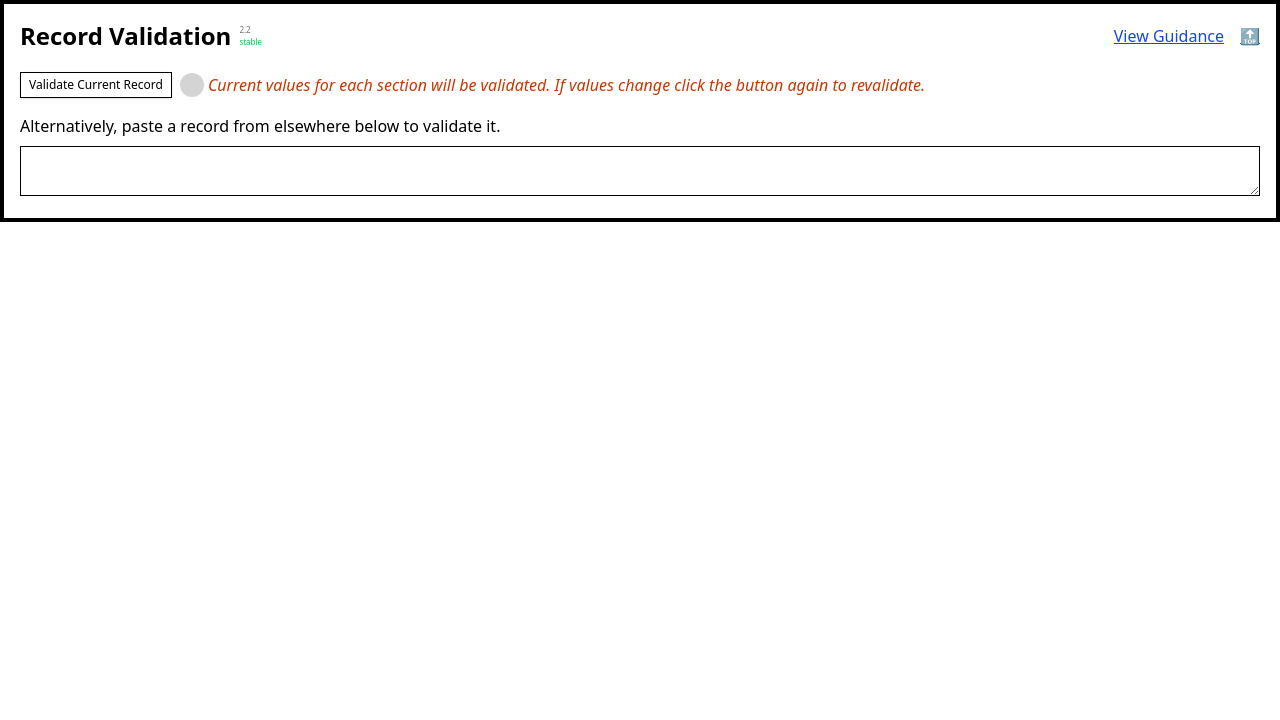
Test: RecordValidation › renders correctly with an invalid current record
This screenshot has width=1280, height=720.
click validation-use-current button
Step 1. Click the button "Validate Current Record" → click(96, 85), box [20,72,172,98]
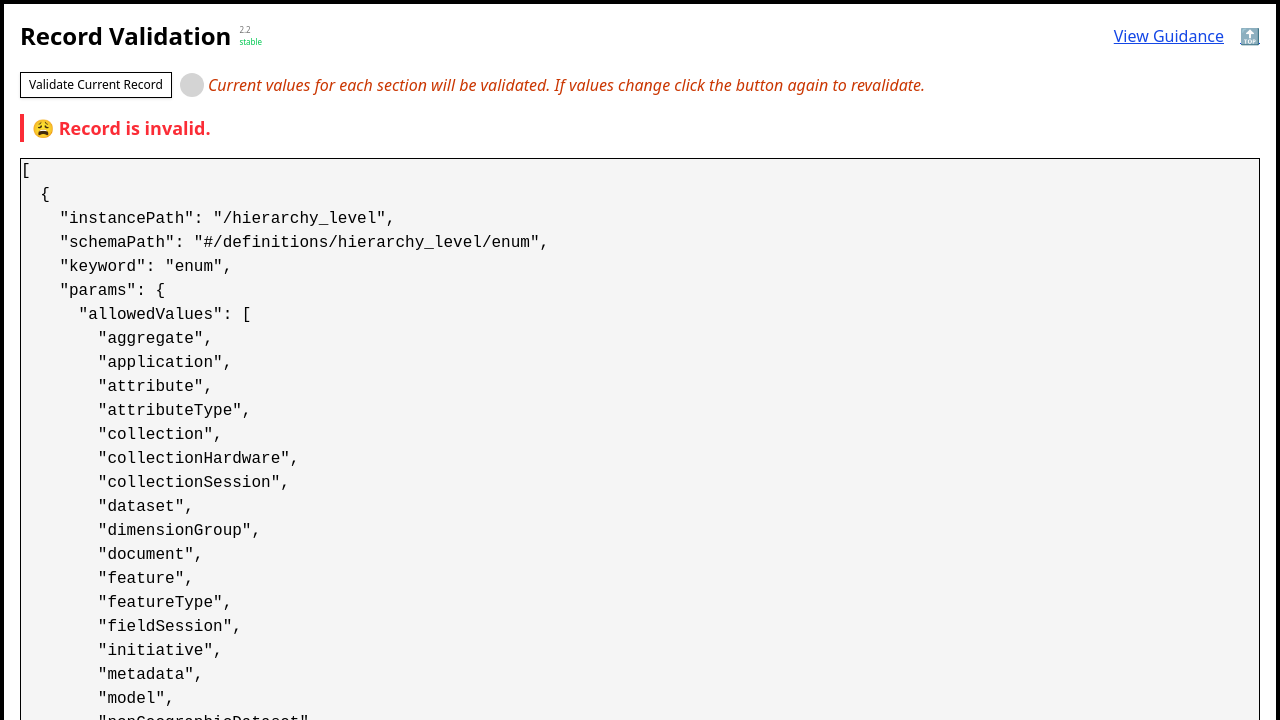
Check: the text "😩 Record is invalid." is shown, box [20,114,1260,142]
